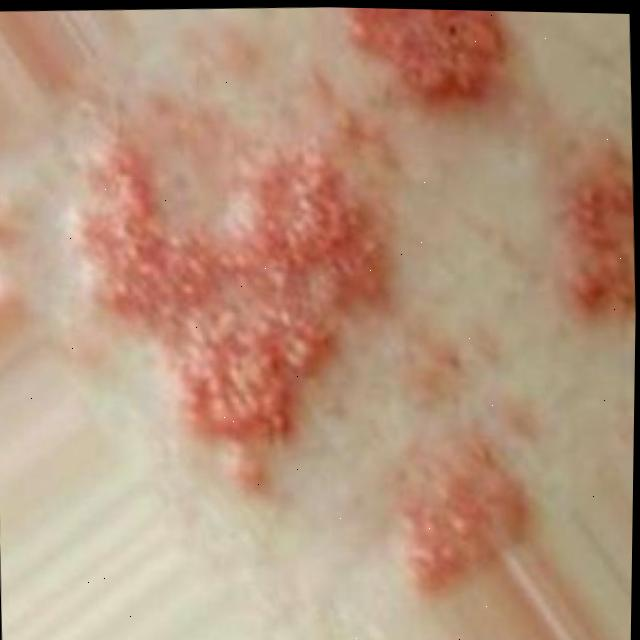Shingles: (73, 2, 640, 605)
